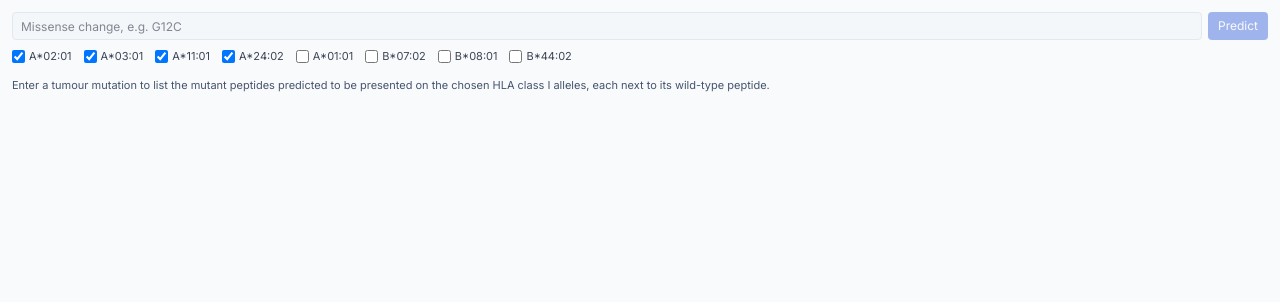
Scenario: NeoantigenPanel › requests the change on the checked alleles
Click the checkbox labelled "B*07:02" at point(372, 56), box [365,50,378,63]
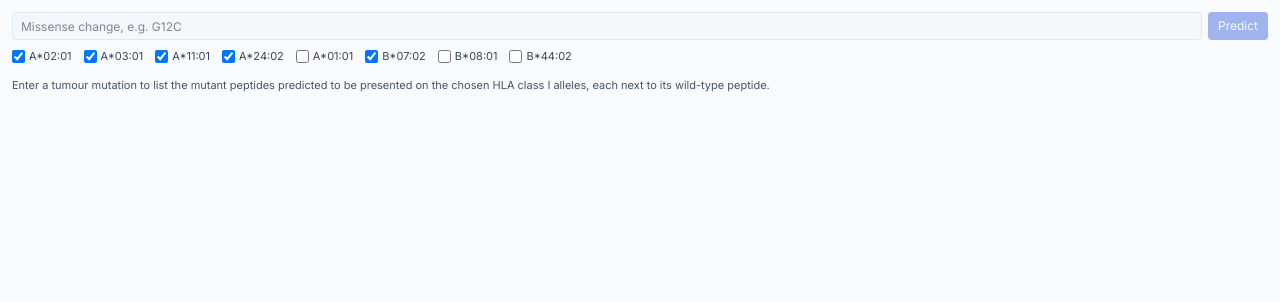
Click the checkbox labelled "A*24:02" at point(228, 56), box [222,50,235,63]
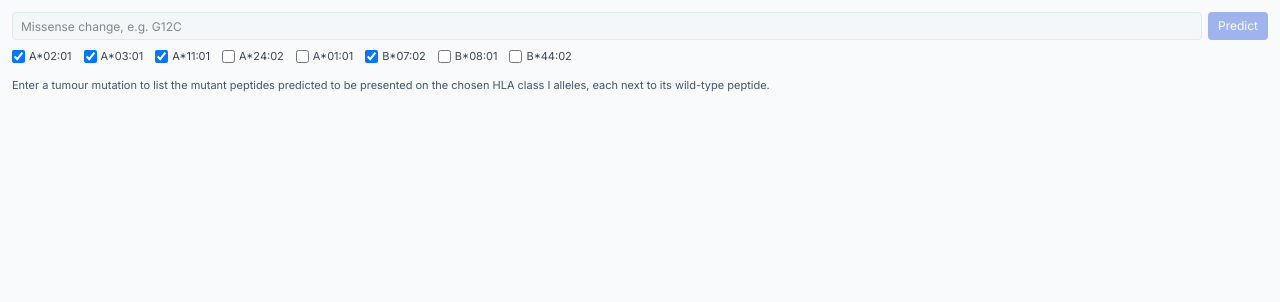
Type "G12C" into the field labelled "Missense change" at point(607, 26), box [12,12,1202,40]
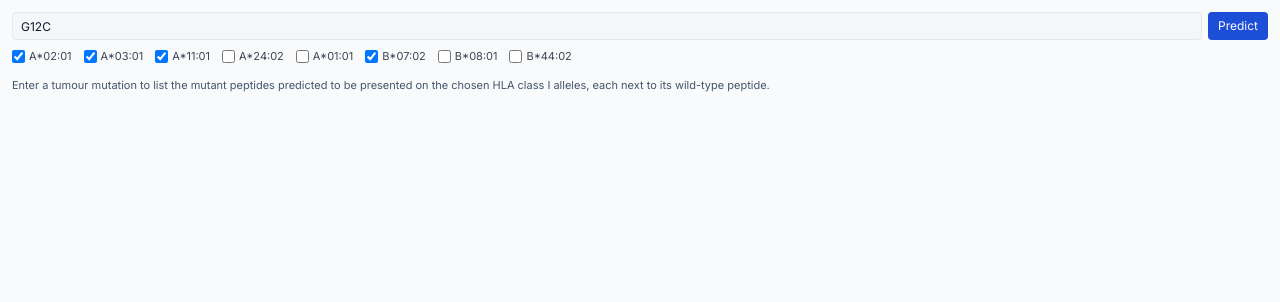
Click the button "Predict" at point(1238, 26), box [1208,12,1268,40]
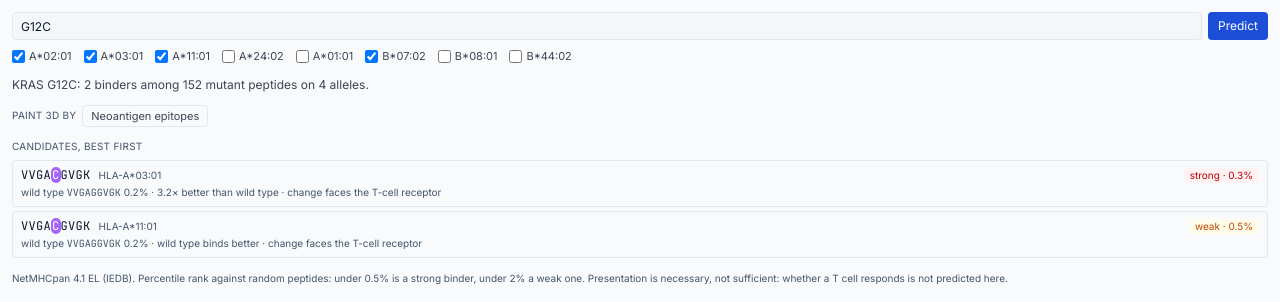
Now the text "KRAS G12C: 2 binders among 152 mutant peptides on 4 alleles." is shown, box [12,76,369,92]
